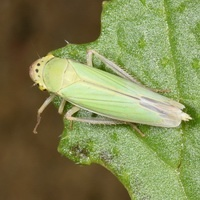insect: (29, 50, 190, 132)
